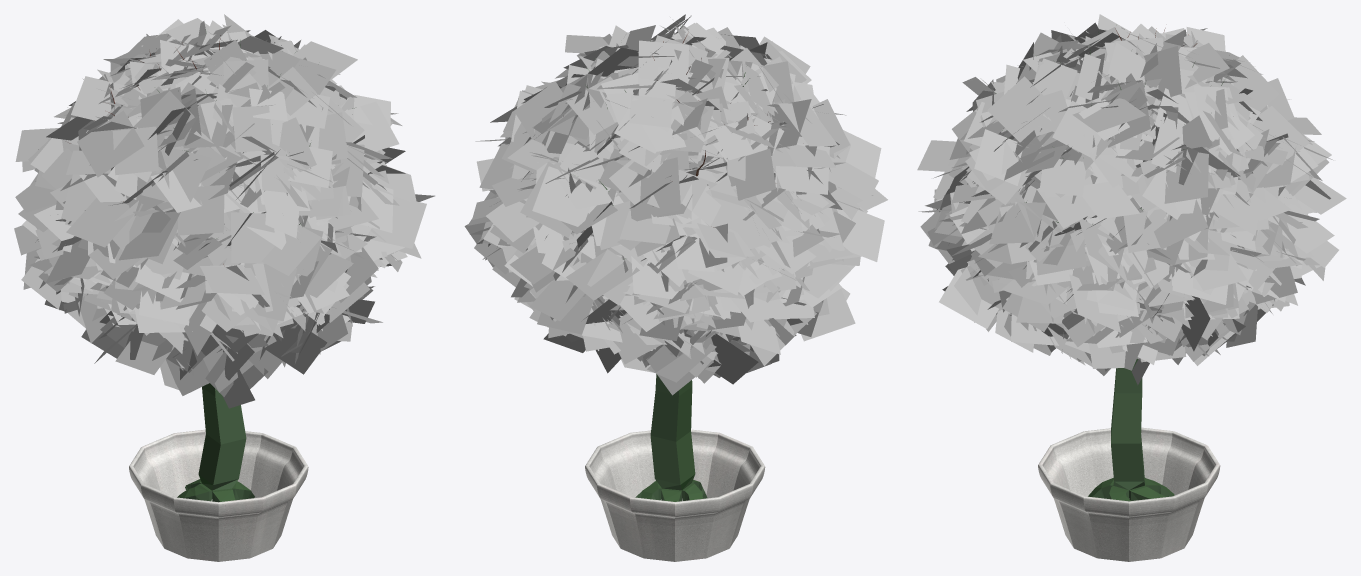
File: arbolVasija3.FBX
3 renders of one model, left to right at view 1: azimuth 30°, elevation 25°; view 2: azimuth 150°, elevation 25°; view 3: azimuth 270°, elevation 25°, orthographic.
Visible parts, largest first — view 1: object; view 2: object; view 3: object.
Part boxes in pixels (x1=…): object: x1=14, y1=14, x2=434, y2=561; object: x1=464, y1=14, x2=887, y2=561; object: x1=917, y1=14, x2=1346, y2=561.
Size of the model in its own units: 2.57 by 3.24 by 2.49.
